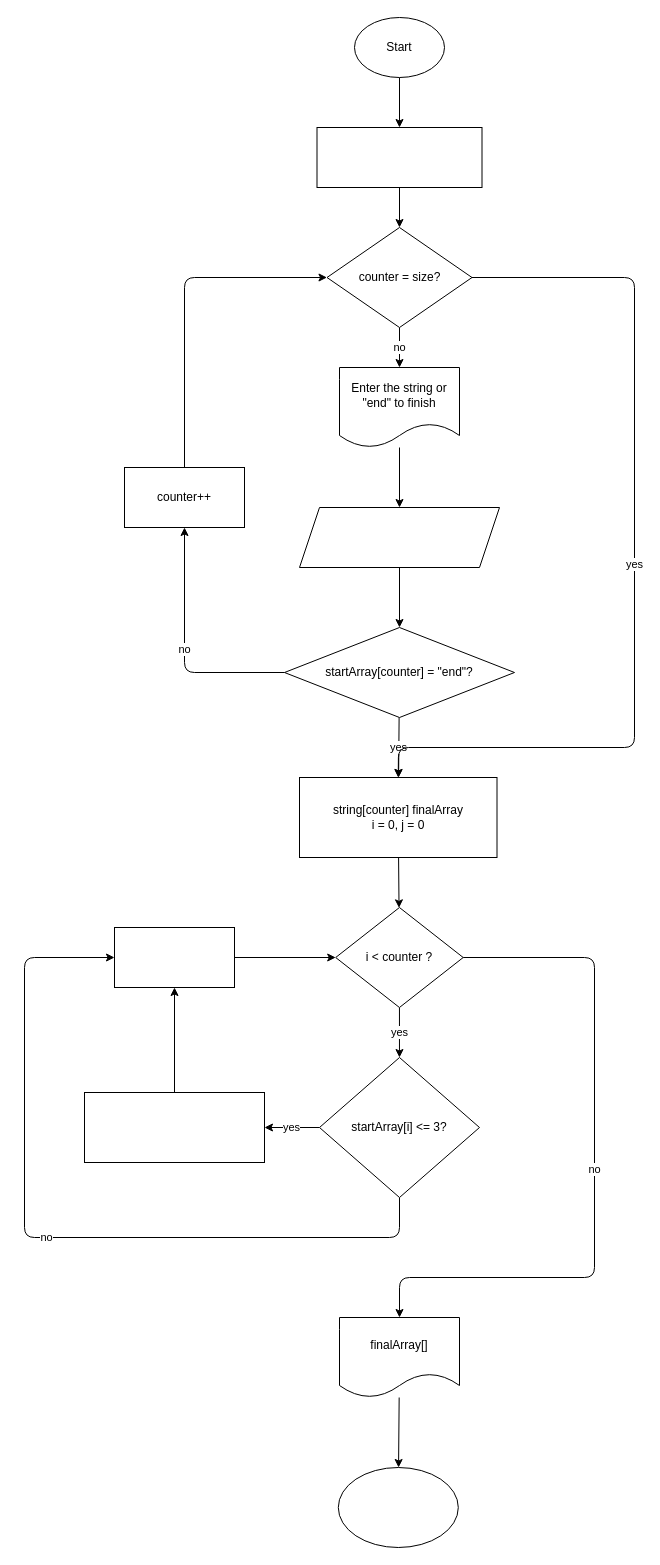
This 660x1565 diagram has some shape labels left out. The shapes that lost their labels are listed below. From the top down, each one's centre as x and y in pixels, then its label:
the point at 399,157: size string[size] startArray counter = 0
the point at 399,537: startArray[counter]
the point at 174,957: i++
the point at 174,1127: finalArray[j] = startArray[i] j++
the point at 397,1507: end
